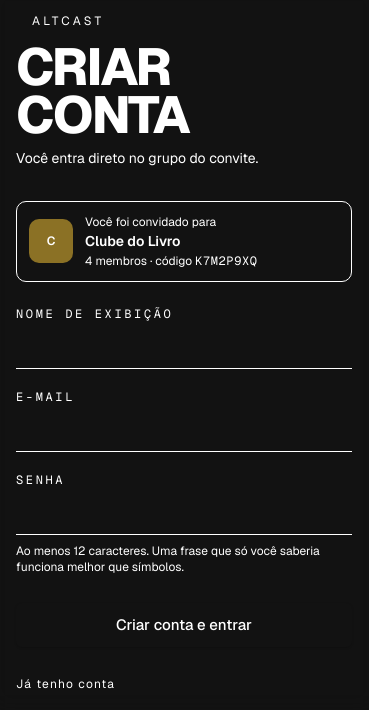
Test: B5 · o convite atravessa o login › "Já tenho conta" leva o código junto e o login mostra o grupo
Click the button "Já tenho conta" at x=66, y=684, box [16,675,115,694]
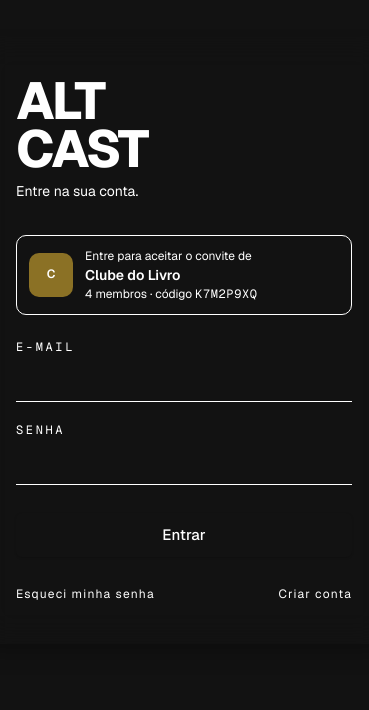
Check: the element "convite" shows "Clube do Livro", box [85,266,180,284]
Check: the password field labelled "Senha" is shown, box [16,446,352,485]
Check: the element "convite" shows "Entre para aceitar o convite de", box [85,248,252,264]
